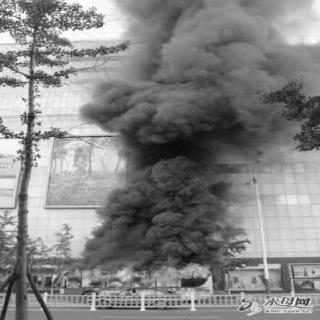Fire: (50, 258, 210, 300)
